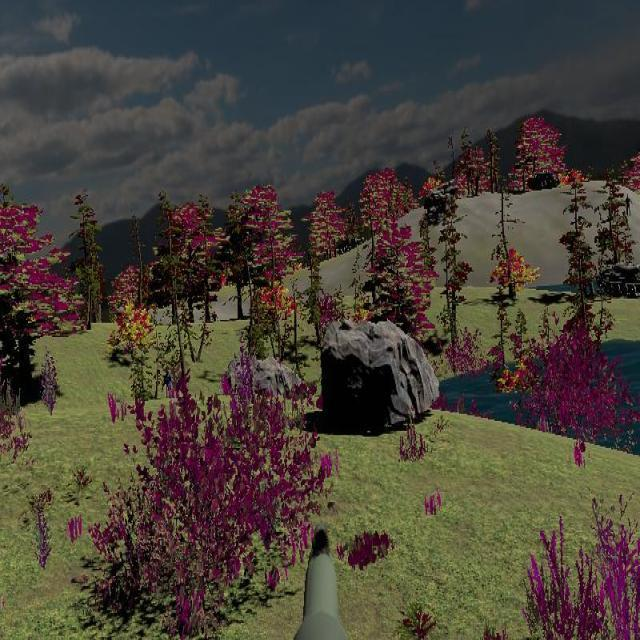Tank: (592, 260, 640, 299)
